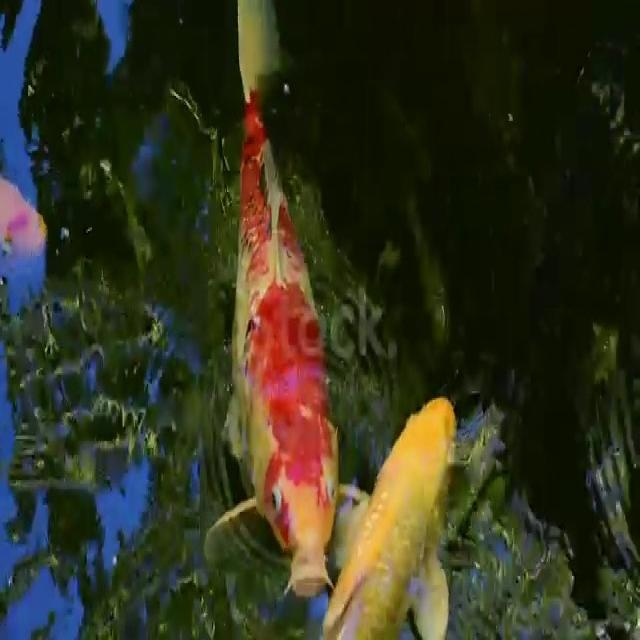fish: (222, 0, 344, 587), (322, 398, 468, 640)
